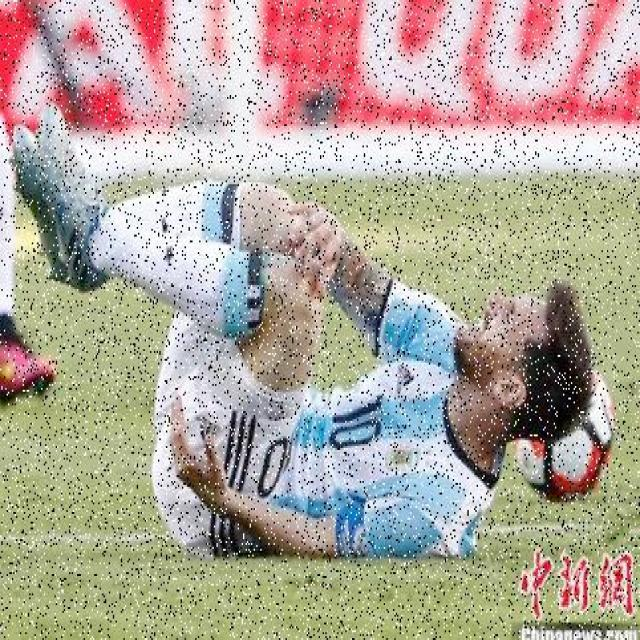fall: (29, 117, 564, 552)
